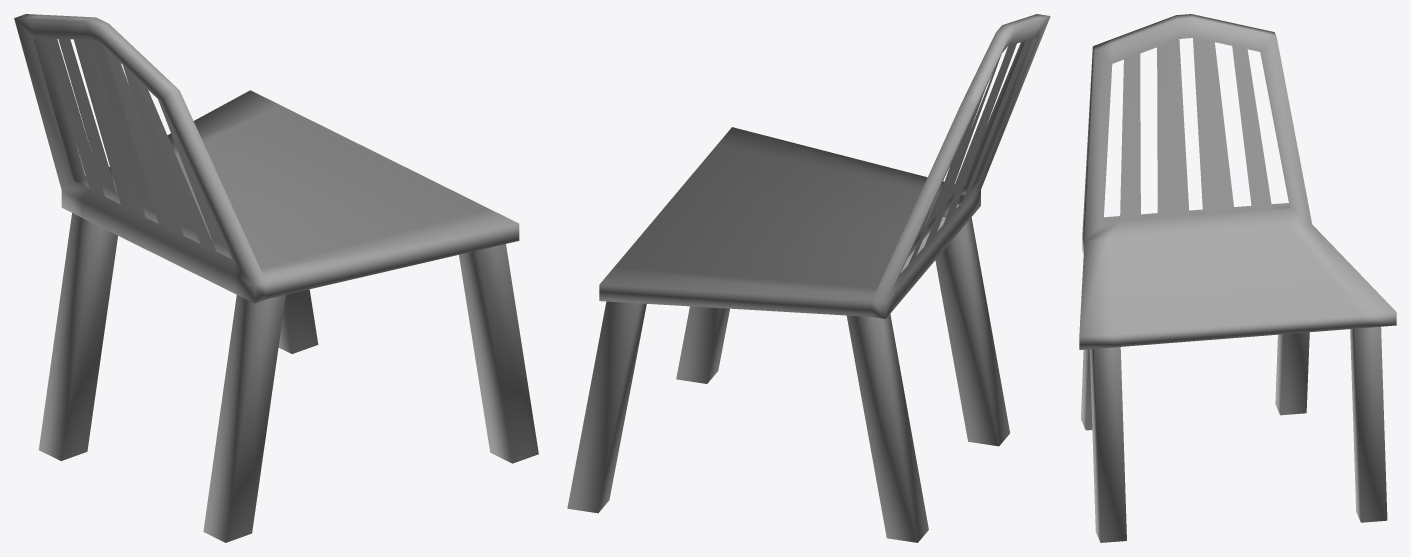
File: just_chair.glb
The picture shows the model from 3 angles, left to right: view 1: azimuth 30°, elevation 25°; view 2: azimuth 150°, elevation 25°; view 3: azimuth 270°, elevation 25°; orthographic projection. The views are drawn at different scales.
Parts seen in each view (by area): view 1: chair, chair_leg; view 2: chair, chair_leg; view 3: chair, chair_leg.
Part boxes in pixels (bbox=[...]): chair: bbox=[14, 14, 519, 303]; chair_leg: bbox=[38, 213, 538, 542]; chair: bbox=[599, 14, 1050, 318]; chair_leg: bbox=[567, 194, 1009, 542]; chair: bbox=[1079, 14, 1396, 349]; chair_leg: bbox=[1081, 326, 1387, 542].
Size of the model in its own units: 0.8459 by 0.9522 by 0.7234.
1 material, 1 textured.
